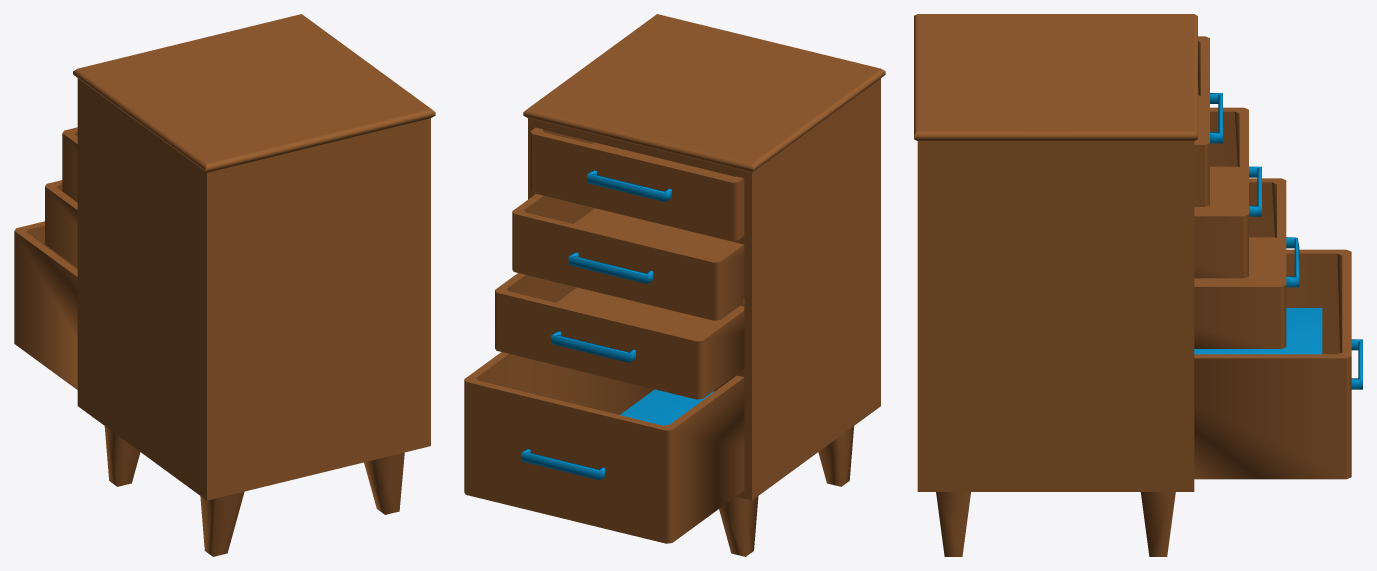
Rendered from Shelf.fbx.
The picture shows the model from 3 angles, left to right: view 1: azimuth 30°, elevation 25°; view 2: azimuth 150°, elevation 25°; view 3: azimuth 270°, elevation 25°; orthographic projection. The views are drawn at different scales.
Visible parts, largest first — view 1: Shelf; view 2: Shelf; view 3: Shelf.
Boxes of the visible parts, left/top/right/bottom form: Shelf: left=14, top=14, right=435, bottom=556; Shelf: left=464, top=14, right=885, bottom=556; Shelf: left=914, top=14, right=1362, bottom=556.
Bounding box in the file's own units: 390 × 660 × 616.
2 materials, 2 textured.
